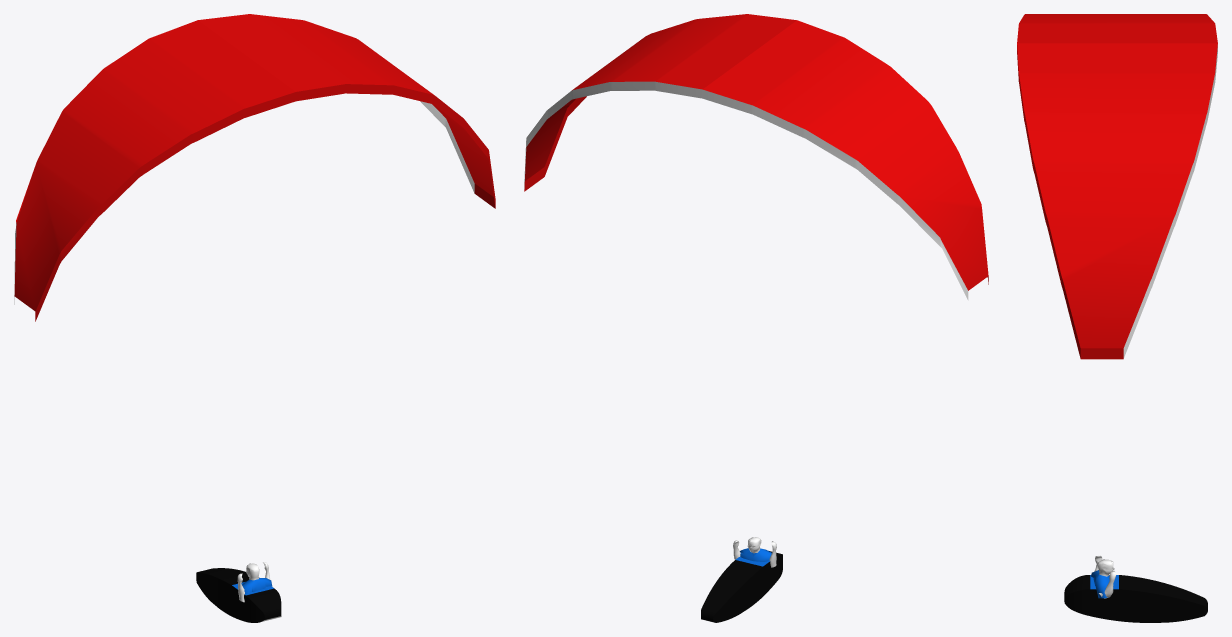
The picture shows the model from 3 angles, left to right: view 1: azimuth 30°, elevation 25°; view 2: azimuth 150°, elevation 25°; view 3: azimuth 270°, elevation 25°; orthographic projection. The views are drawn at different scales.
Parts seen in each view (by area): view 1: SketchUp (×2); view 2: SketchUp (×3); view 3: SketchUp (×5).
Part boxes in pixels (x1,y1,x2,y2): SketchUp (×2): (14, 14, 495, 622); SketchUp (×3): (524, 14, 988, 622); SketchUp (×5): (1017, 14, 1217, 622).
Bounding box in the file's own units: 296 × 109 × 344.
Materials: 4 (3 with a texture image).
